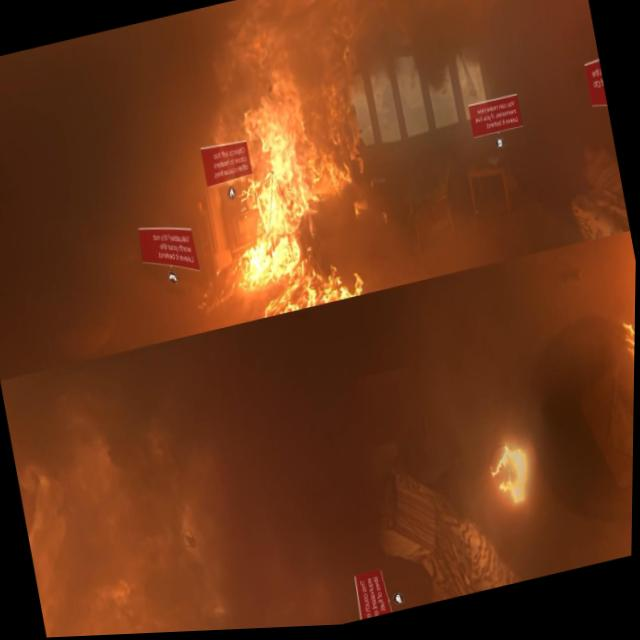fire: (157, 1, 408, 333), (483, 432, 546, 526), (612, 290, 636, 497)
